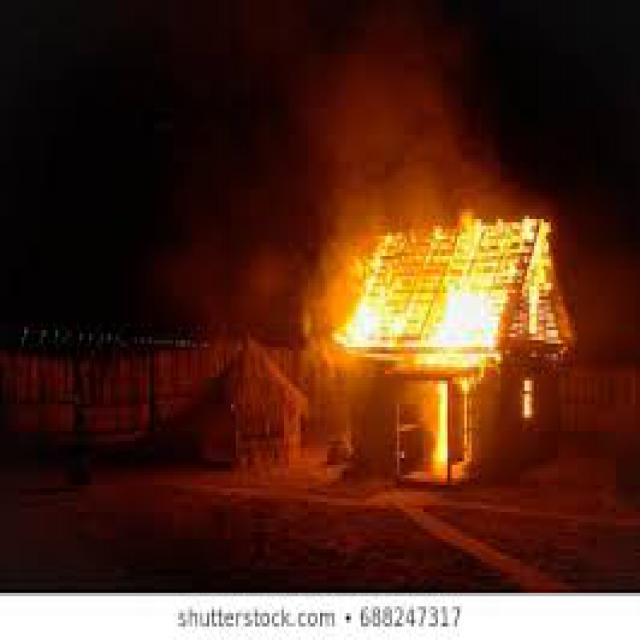fire: (332, 229, 558, 438)
